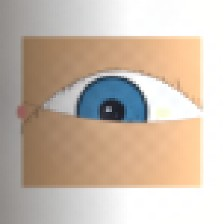pinguecula_lesion: (146, 99, 181, 127)
